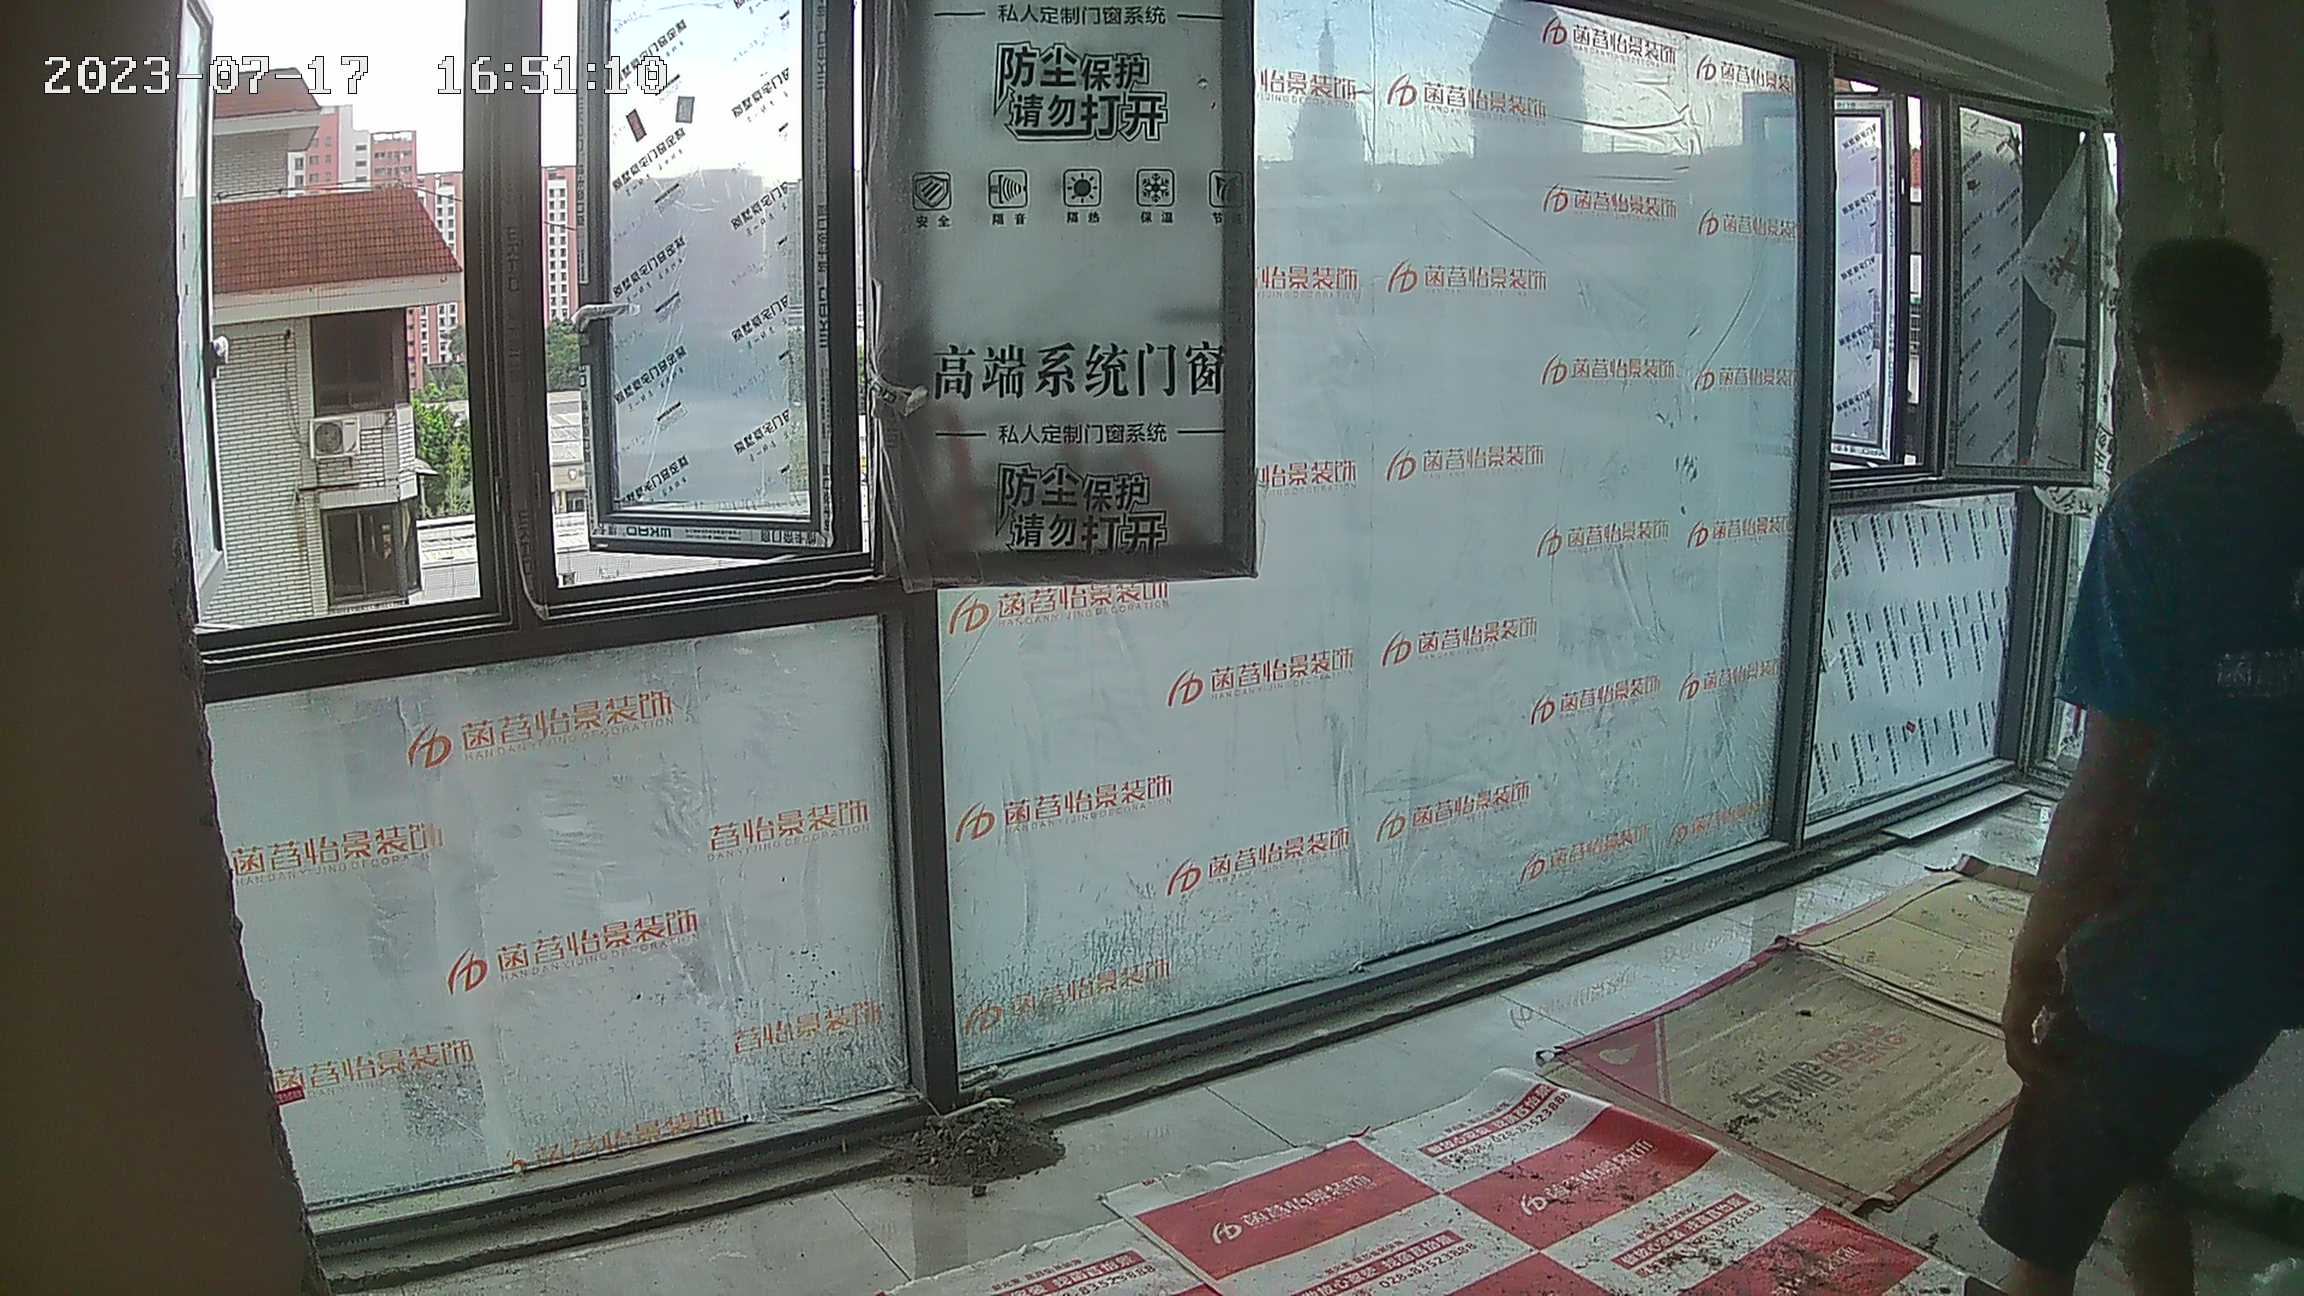people: (1984, 228, 2304, 1295)
window: (182, 3, 2095, 1131)
